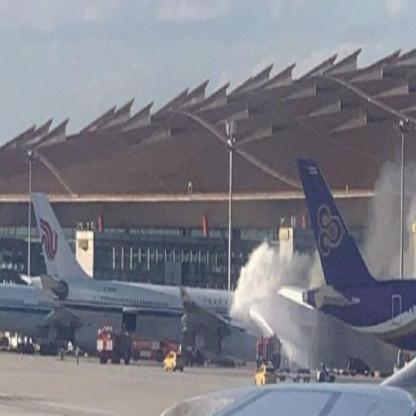CIV_Plane: (0, 189, 295, 394), (290, 152, 416, 356)
